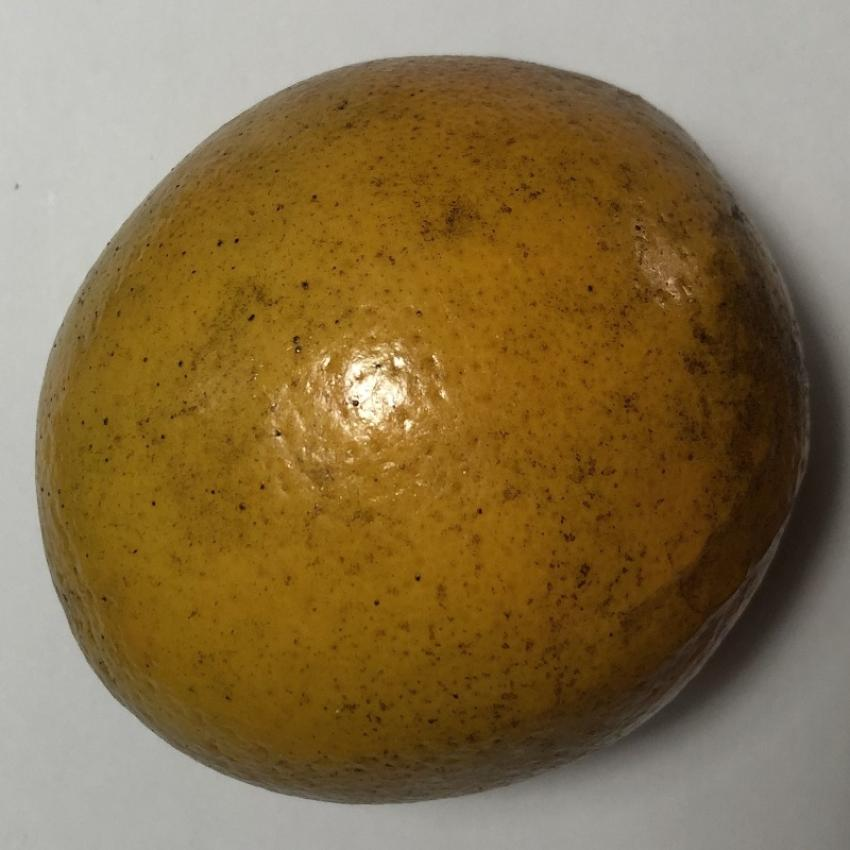Mal estado: (7, 26, 829, 795)
